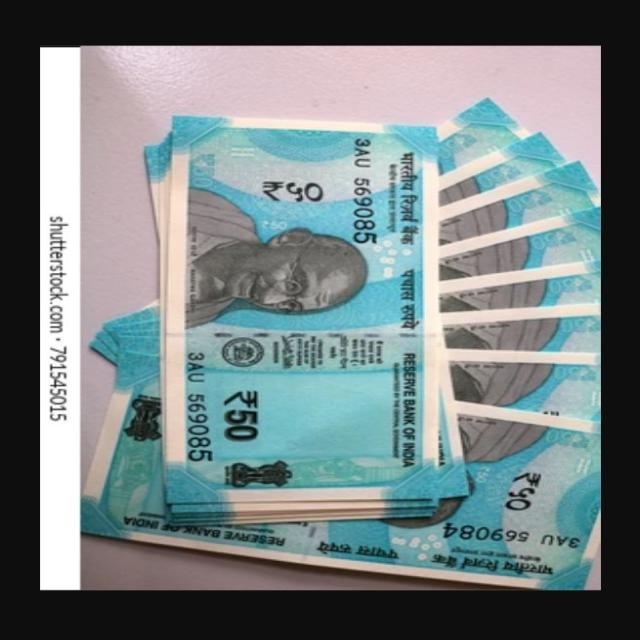50IndianRupees: (169, 121, 443, 497)
